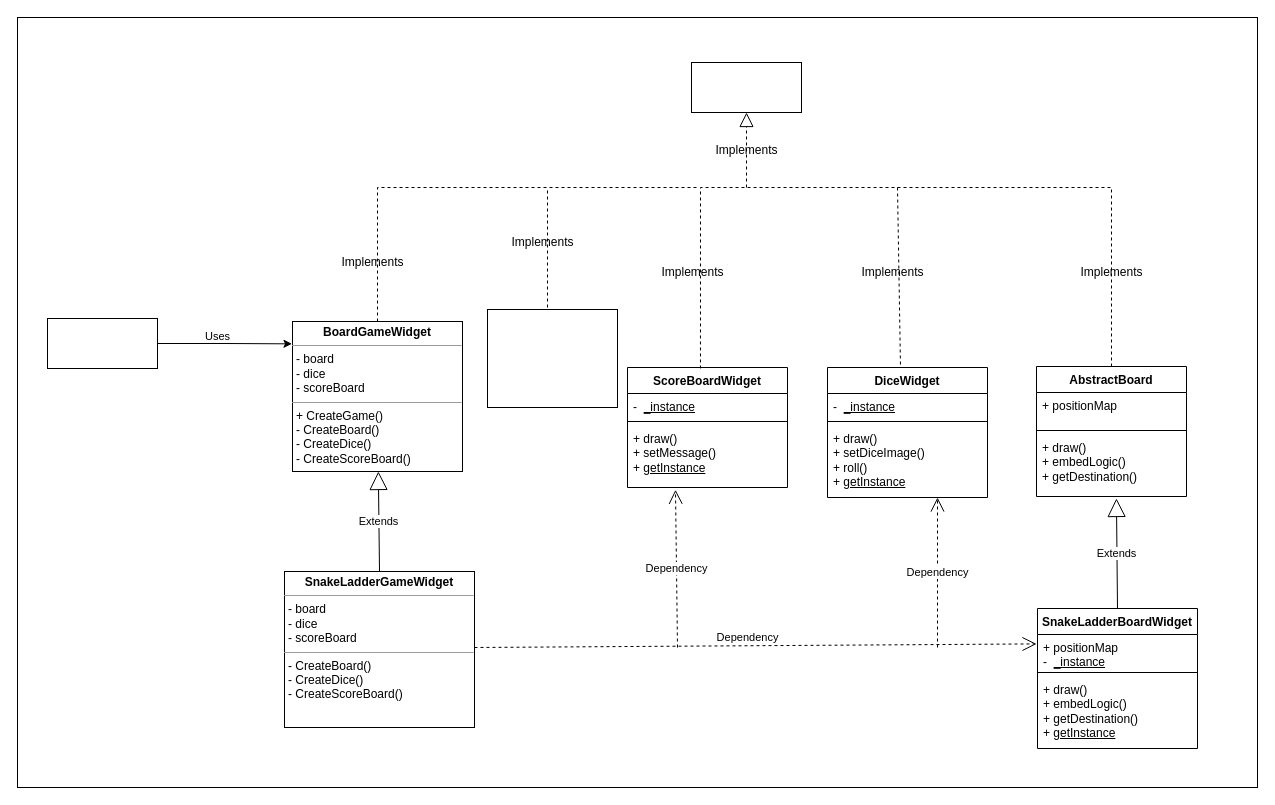
The diagram is 1275 pixels wide and 805 high, and some of its shapes have lost their labels. Here are the shapes that lost their labels. From the top down, the centre of each, then its label:
At point 746,87: "«interface» FL_Widget".
At point 102,343: "Client".
At point 552,358: "PlayerWidget + getPosition() + updateCordinates() + updatePosition()".
